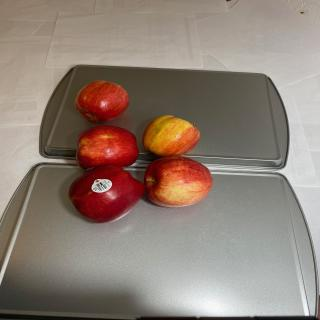Apple: (68, 165, 145, 223), (144, 156, 213, 207), (76, 125, 139, 170), (142, 115, 200, 157), (74, 80, 130, 123)
